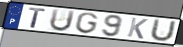9: (100, 14, 123, 38)
G: (74, 12, 100, 35)
K: (126, 17, 149, 41)
T: (28, 7, 48, 30)
U: (148, 18, 178, 43), (49, 8, 77, 33)
